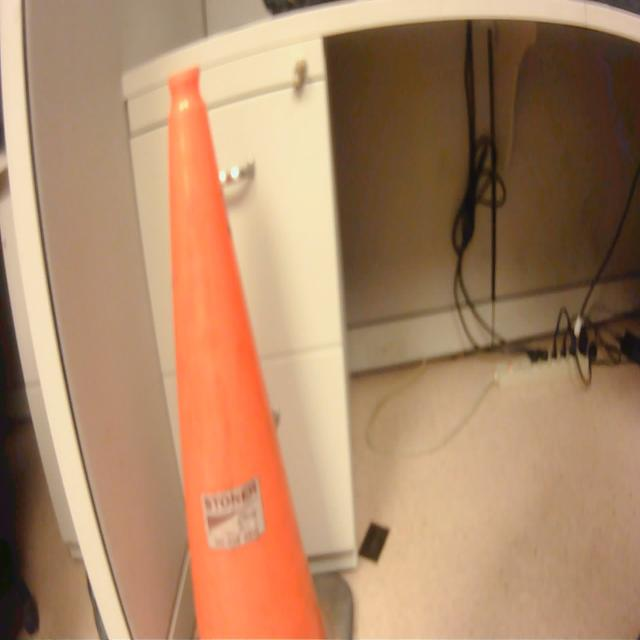traffic cone: (160, 58, 361, 640)
